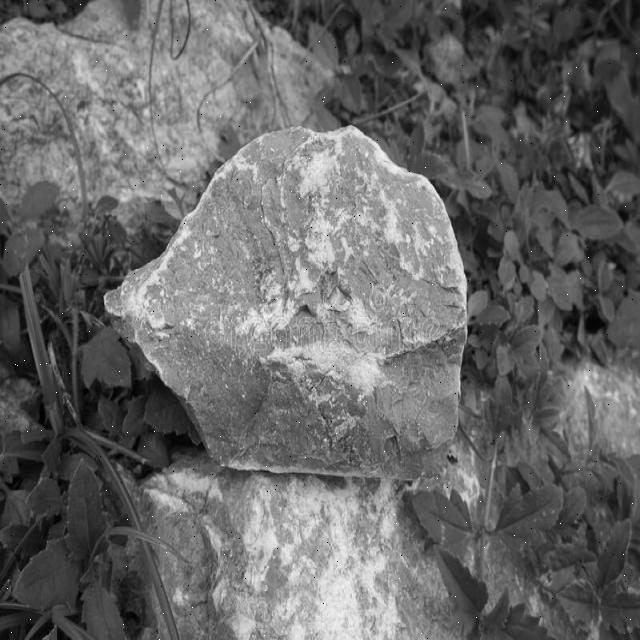Sedimentary: (102, 125, 491, 498)
